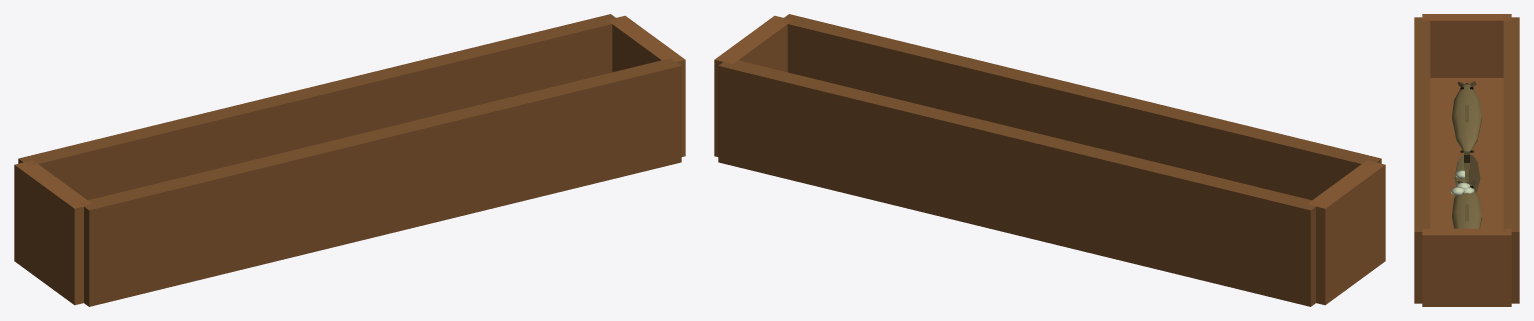
File: Fish_Loach.fbx
3 views of the same model, side by side, from view 1: azimuth 30°, elevation 25°; view 2: azimuth 150°, elevation 25°; view 3: azimuth 270°, elevation 25° (orthographic). The views are drawn at different scales.
Parts seen in each view (by area): view 1: Fish_Loach__Stack; view 2: Fish_Loach__Stack; view 3: Fish_Loach__Stack, Fish_Loach__Rotten, Fish_Loach.
Part boxes in pixels (x1,y1,x2,y2): Fish_Loach__Stack: [14, 14, 685, 306]; Fish_Loach__Stack: [714, 14, 1385, 306]; Fish_Loach__Stack: [1414, 14, 1519, 306]; Fish_Loach__Rotten: [1451, 150, 1480, 195]; Fish_Loach: [1454, 150, 1472, 185].
Size of the model in its own units: 0.2649 by 0.04 by 0.0532.
